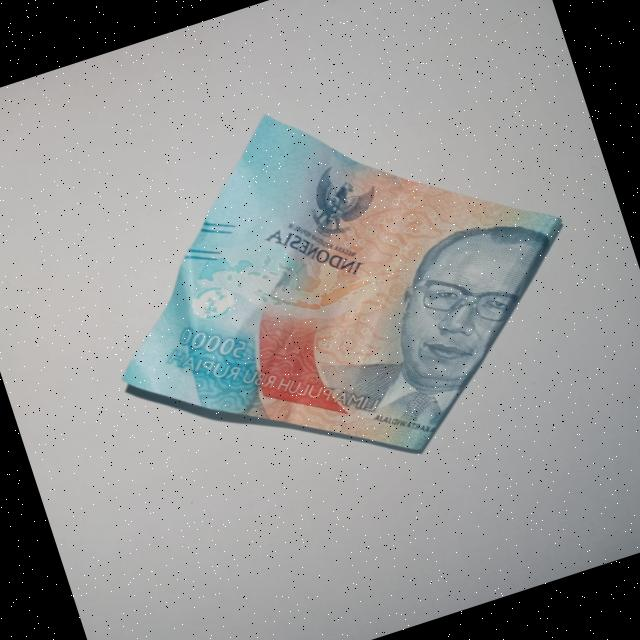50K: (53, 26, 628, 544)
